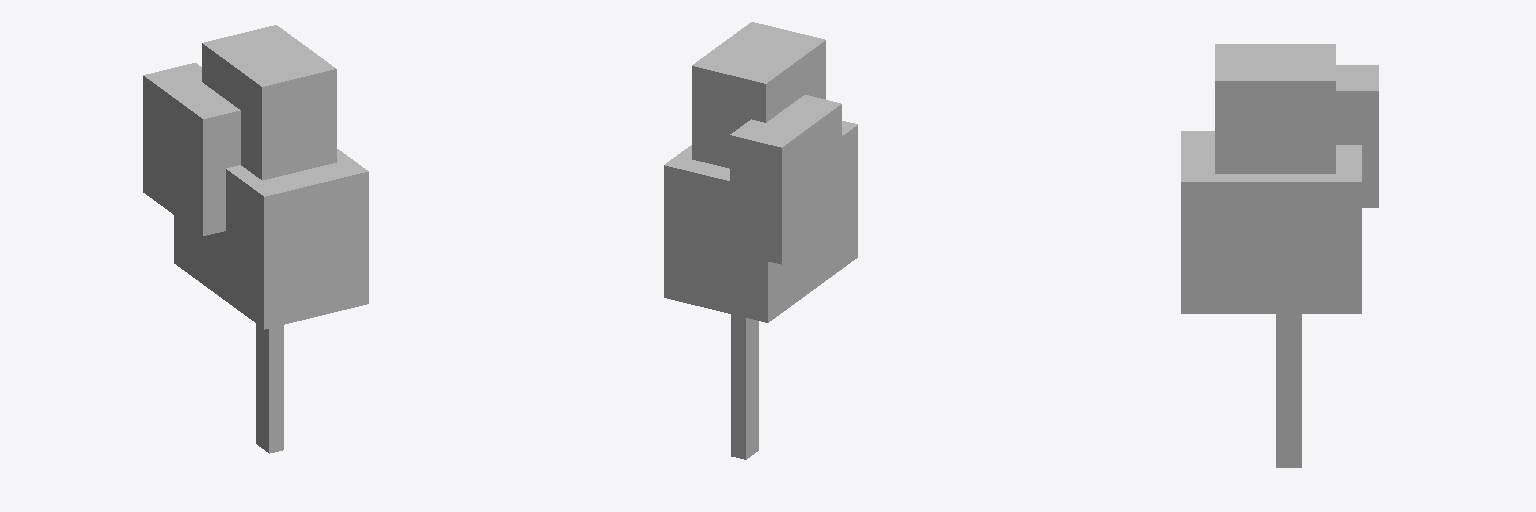
File: arbol.obj
The picture shows the model from 3 angles: view 1: azimuth 30°, elevation 25°; view 2: azimuth 150°, elevation 25°; view 3: azimuth 270°, elevation 25°; orthographic projection.
Parts seen in each view (by area): view 1: object 1; view 2: object 1; view 3: object 1.
Boxes of the visible parts, box(x1,y1,x2,y2) form: object 1: box(143, 25, 368, 453); object 1: box(664, 22, 857, 459); object 1: box(1181, 44, 1378, 467).
Bounding box in the file's own units: 1.7 × 5.1 × 2.3.